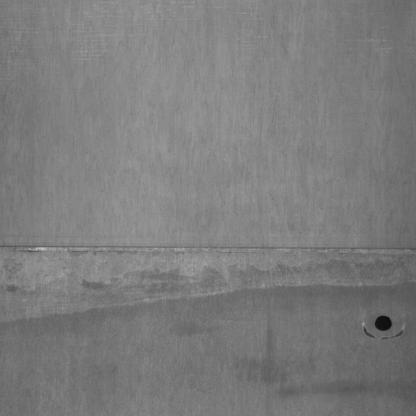punching_hole: (374, 310, 396, 336)
welding_line: (2, 233, 416, 264)
